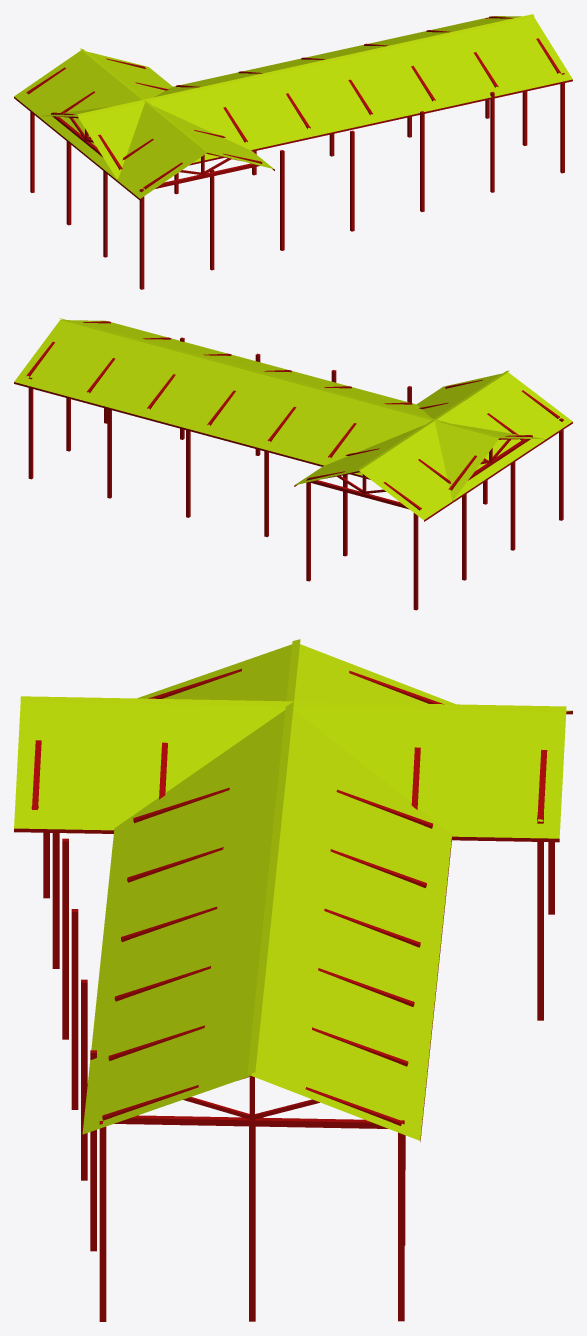
The model's file is stabulation_bois_7.glb.
3 renders of one model, top to bottom at view 1: azimuth 30°, elevation 25°; view 2: azimuth 150°, elevation 25°; view 3: azimuth 270°, elevation 25°, orthographic. The views are drawn at different scales.
Parts seen in each view (by area): view 1: stabulation_bois_7; view 2: stabulation_bois_7; view 3: stabulation_bois_7.
Boxes of the visible parts, x1,y1,x2,y2 form: stabulation_bois_7: (14, 14, 572, 289); stabulation_bois_7: (14, 318, 572, 610); stabulation_bois_7: (14, 639, 572, 1321).
Bounding box in the file's own units: 31.21 × 8.45 × 16.7.
